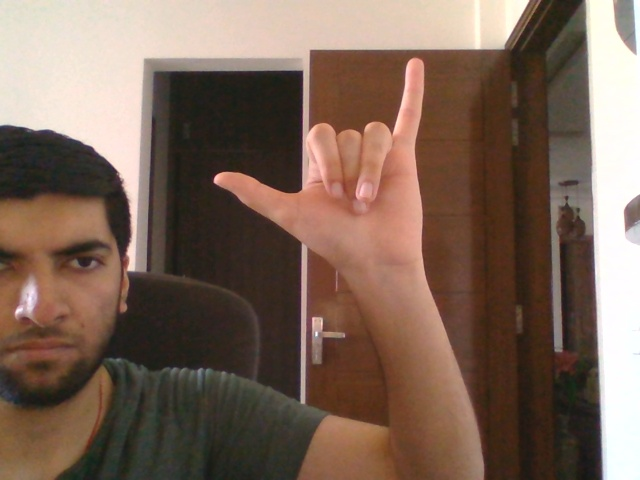LetterY: (209, 53, 428, 268)
